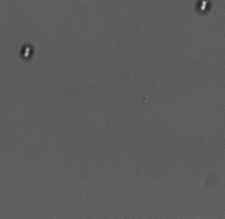Living Cell: (192, 1, 214, 14), (19, 42, 34, 61)
